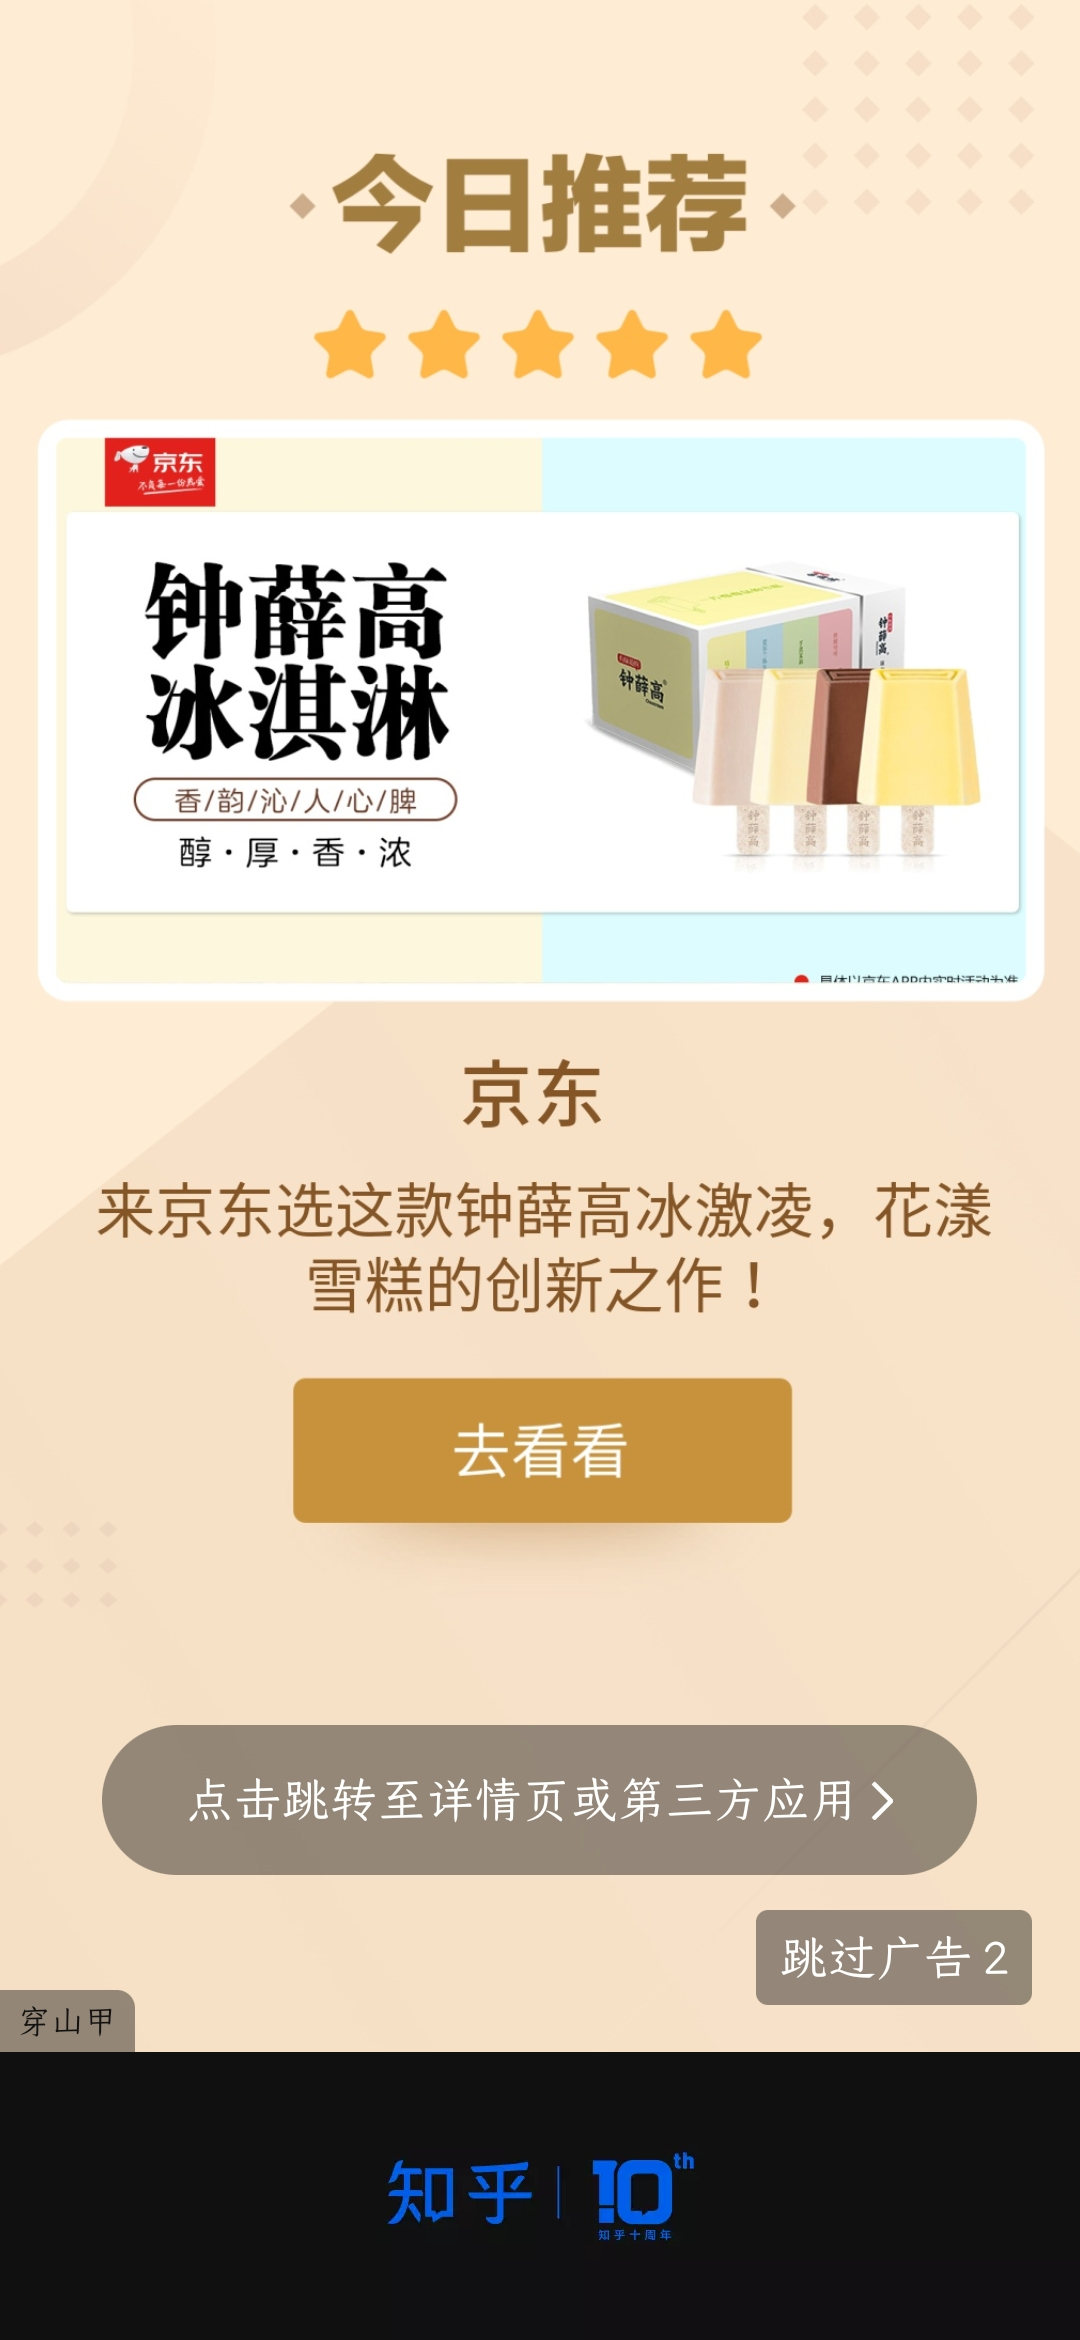skip: (765, 1918, 1020, 2001)
